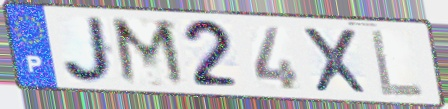2: (178, 18, 248, 92)
4: (250, 25, 302, 92)
J: (60, 15, 119, 86)
L: (367, 27, 427, 99)
M: (108, 15, 192, 91)
X: (298, 24, 372, 97)
